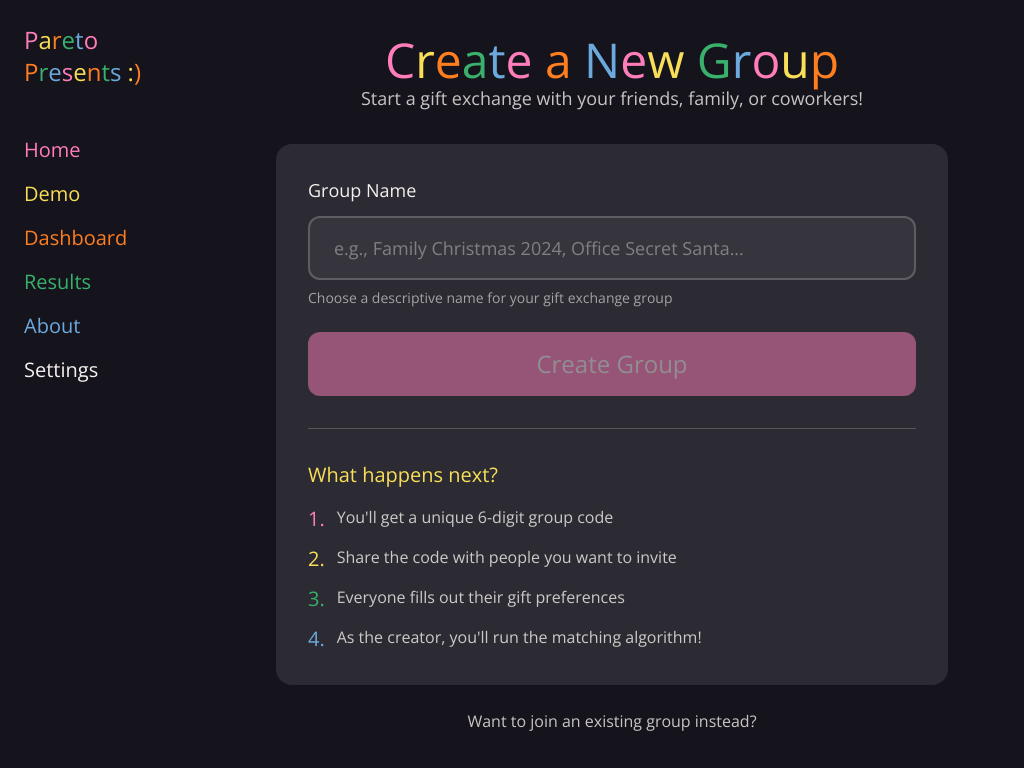
Test: CreateGroupPage › Group creation flow › shows loading state while creating
Type "My Test Group" into the field with placeholder "e.g., Family Christmas 2024, Office Secret Santa..." at (612, 248), box [308,216,916,280]
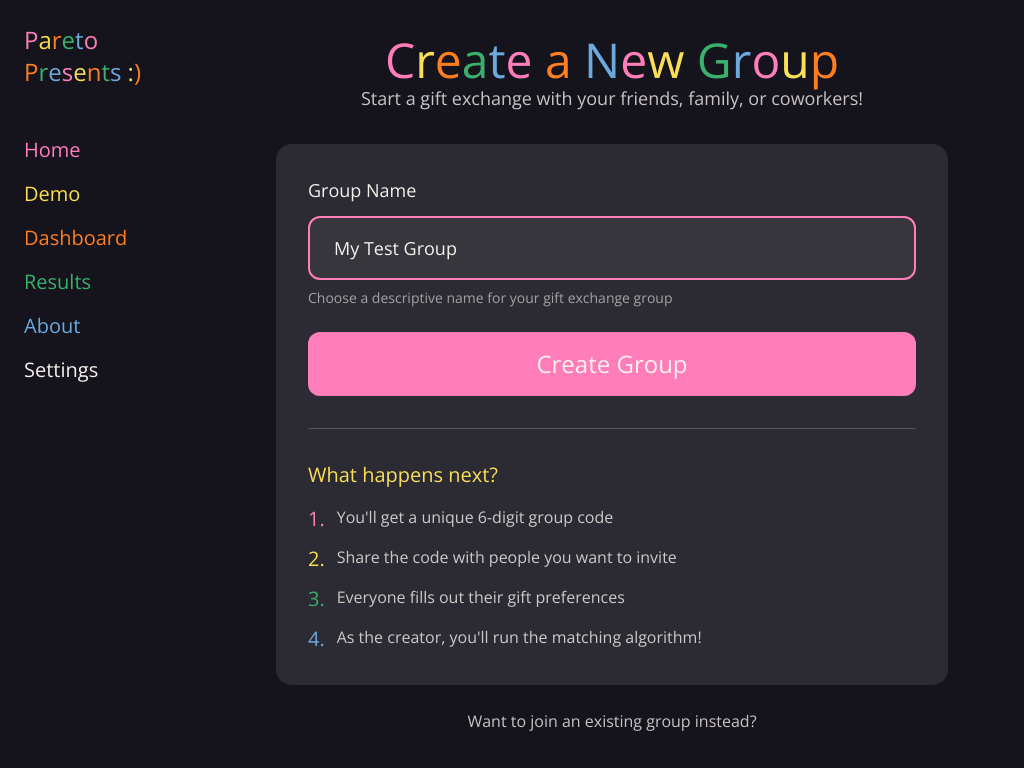
Click the button "Create Group" at (612, 364), box [308,332,916,396]
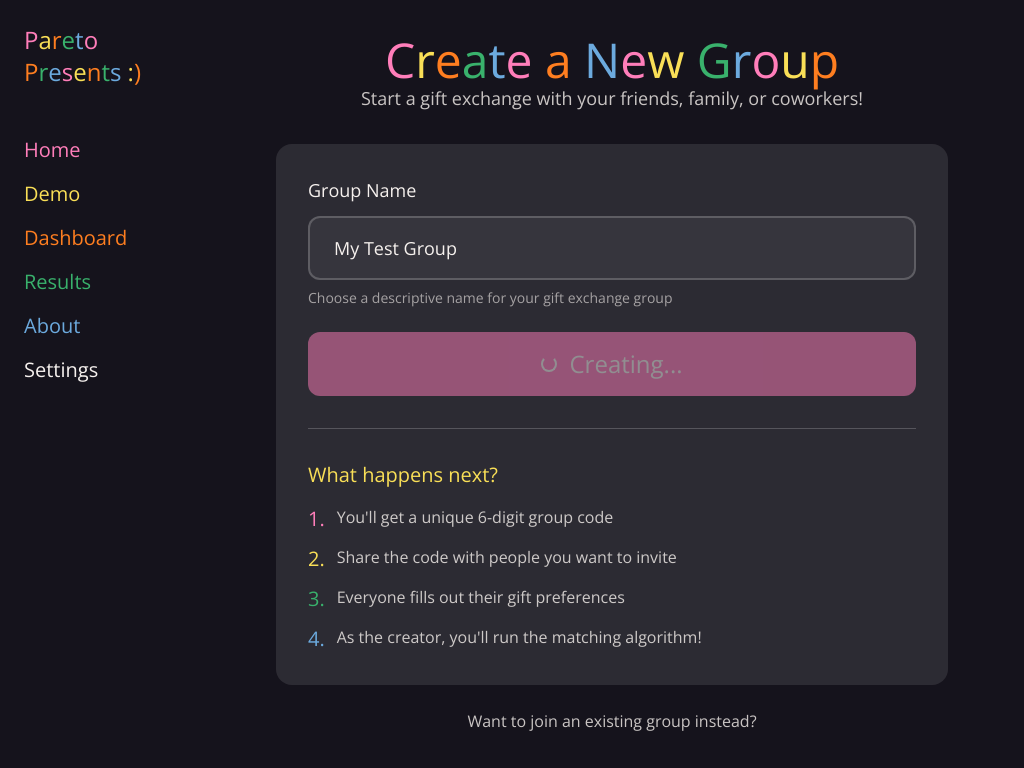
Expected: the text "Creating..." is shown, [570,348,682,380]
